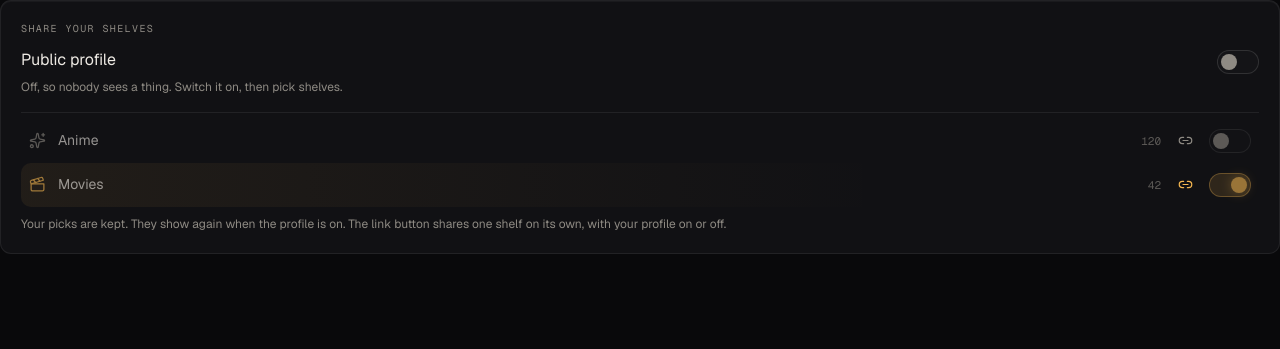
SharingCard › turns the profile on at once and shows the link to share
The width and height of the screenshot is (1280, 349).
Click the switch named "Public profile" in the row of "Public profile" at (1238, 62), box x1=1217 y1=50 x2=1259 y2=74
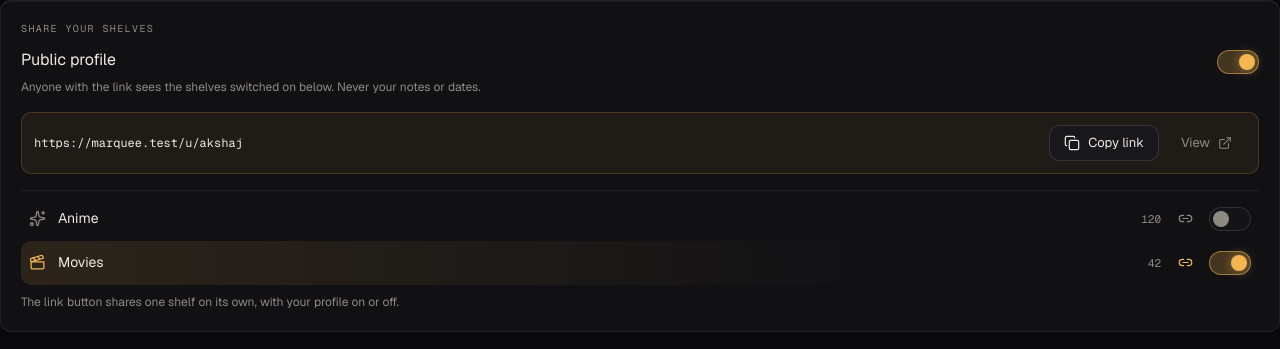
Now the text "https://marquee.test/u/akshaj" is shown, box x1=34 y1=135 x2=243 y2=151
